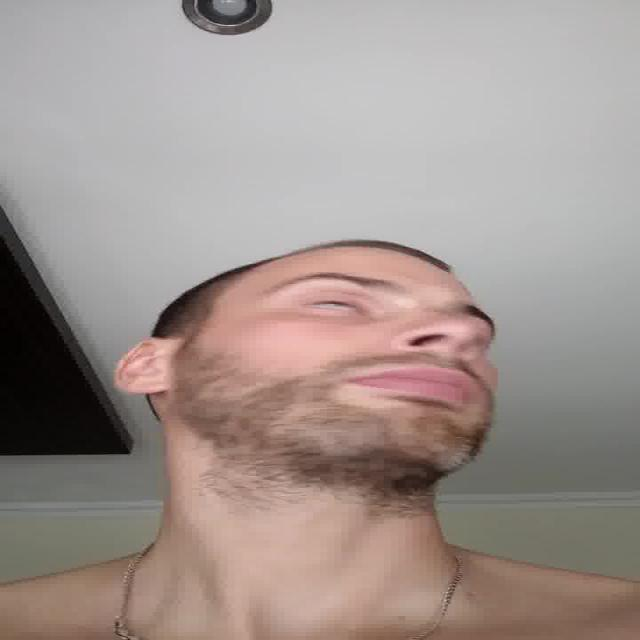earlobe: (116, 336, 170, 397)
